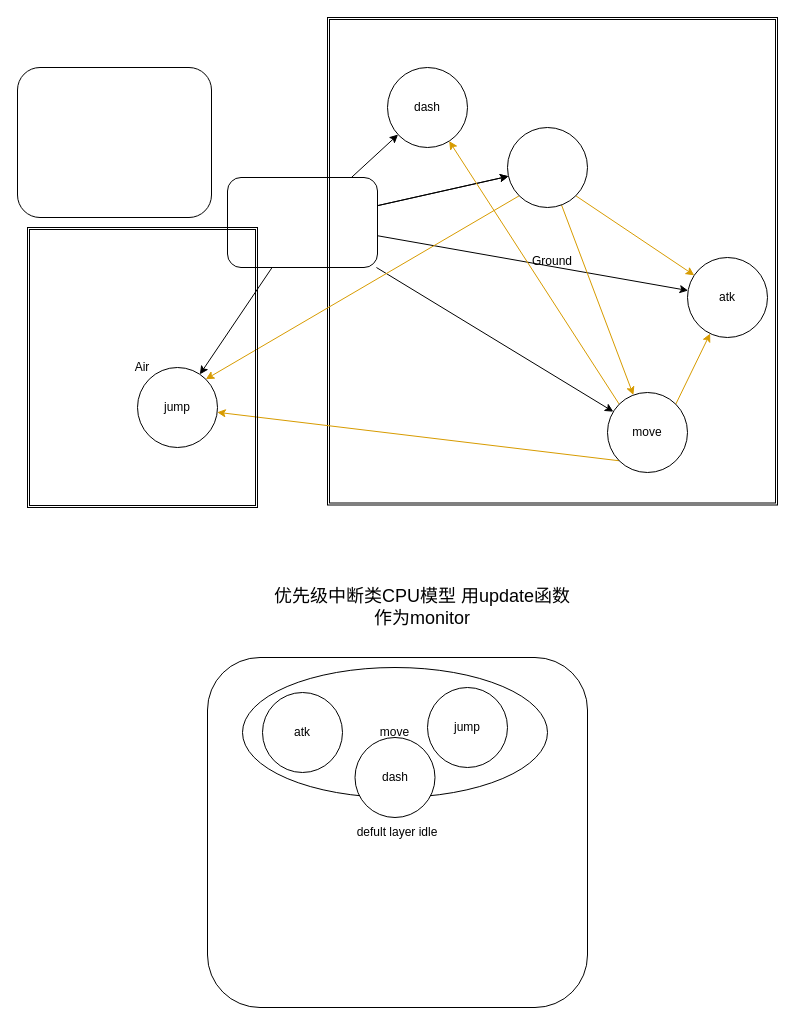
The diagram is 795 pixels wide and 1025 high, and some of its shapes have lost their labels. Each missing label, with the centre of its shape:
"idle" goes at pixel 547 167.
"state" goes at pixel 302 222.
"state machine ==current state inital change" goes at pixel 114 142.
